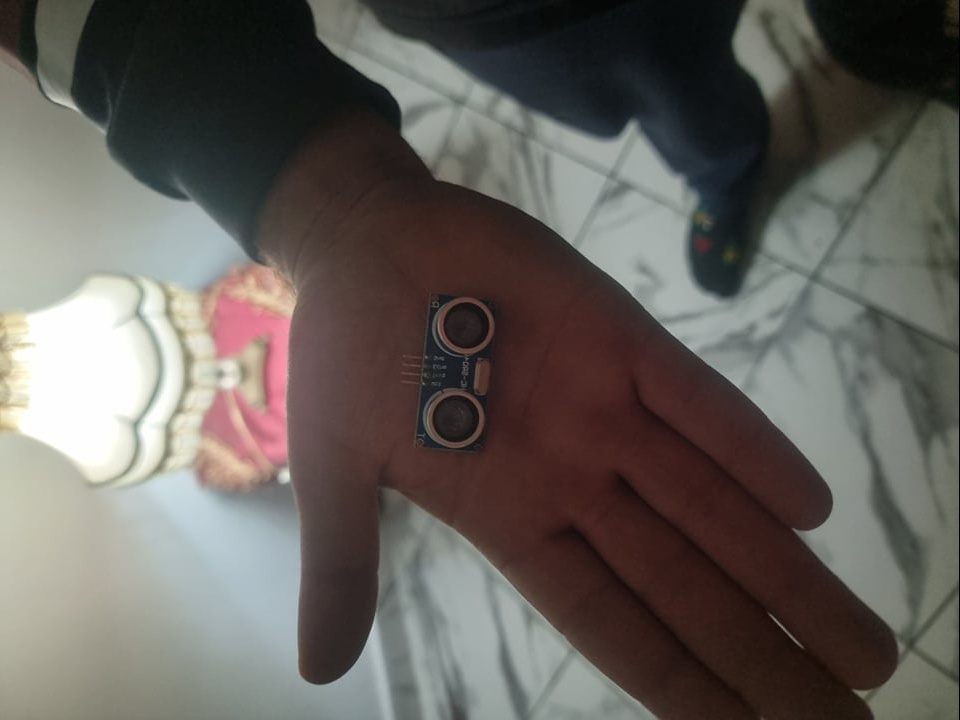SENSOR: (415, 287, 502, 459)
